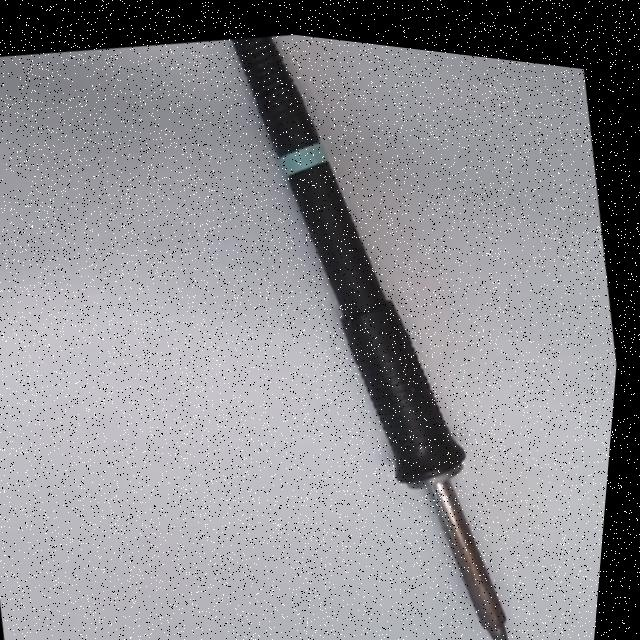soldering_iron: (182, 28, 562, 640)
